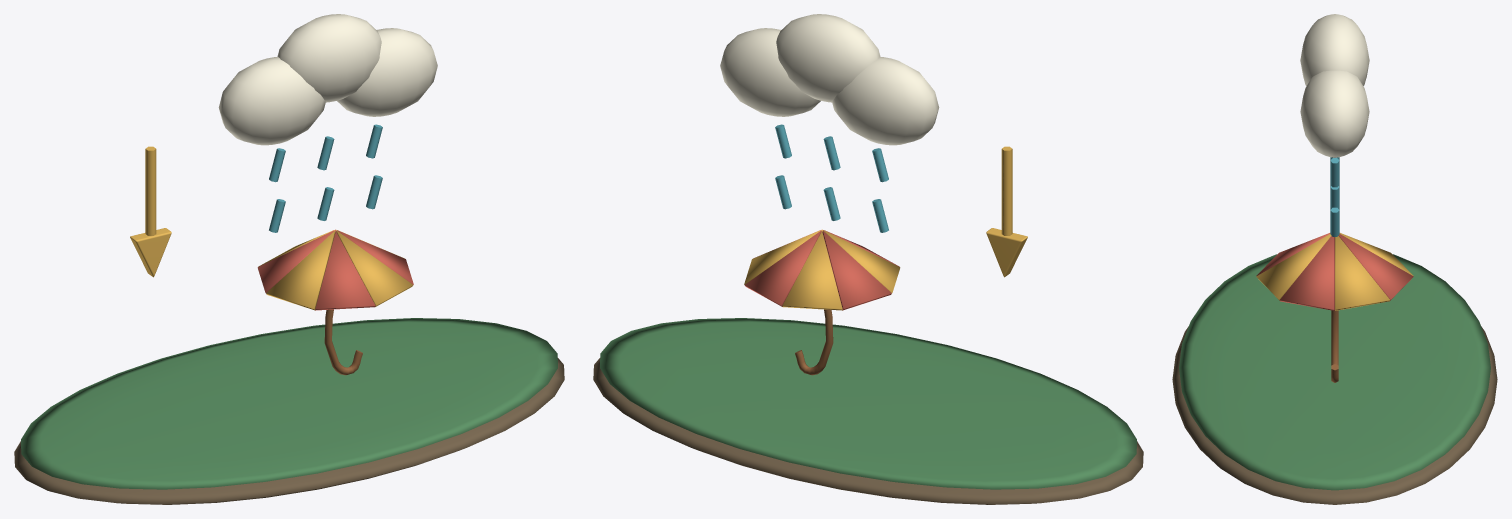
Rendered from falling-rain.glb.
3 renders of one model, left to right at view 1: azimuth 30°, elevation 25°; view 2: azimuth 150°, elevation 25°; view 3: azimuth 270°, elevation 25°, orthographic. The views are drawn at different scales.
Visible parts, largest first — view 1: falling-rain_surface_01, falling-rain_surface_03, falling-rain_surface_00, falling-rain_surface_02, falling-rain_surface_06, falling-rain_surface_04, falling-rain_surface_05; view 2: falling-rain_surface_01, falling-rain_surface_03, falling-rain_surface_00, falling-rain_surface_02, falling-rain_surface_06, falling-rain_surface_04, falling-rain_surface_05; view 3: falling-rain_surface_01, falling-rain_surface_03, falling-rain_surface_00, falling-rain_surface_02, falling-rain_surface_06, falling-rain_surface_04, falling-rain_surface_05.
Boxes of the visible parts, box(x1,y1,x2,y2) form: falling-rain_surface_01: box(21, 318, 557, 489); falling-rain_surface_03: box(218, 14, 437, 145); falling-rain_surface_00: box(14, 358, 564, 504); falling-rain_surface_02: box(130, 146, 413, 310); falling-rain_surface_06: box(257, 229, 413, 310); falling-rain_surface_04: box(269, 124, 382, 232); falling-rain_surface_05: box(324, 309, 362, 375); falling-rain_surface_01: box(600, 318, 1136, 489); falling-rain_surface_03: box(720, 14, 939, 145); falling-rain_surface_00: box(593, 358, 1143, 504); falling-rain_surface_02: box(744, 146, 1027, 310); falling-rain_surface_06: box(744, 230, 899, 310); falling-rain_surface_04: box(775, 124, 888, 232); falling-rain_surface_05: box(795, 309, 833, 375); falling-rain_surface_01: box(1179, 254, 1490, 490); falling-rain_surface_03: box(1300, 14, 1369, 157); falling-rain_surface_00: box(1172, 326, 1497, 504); falling-rain_surface_02: box(1256, 233, 1413, 310); falling-rain_surface_06: box(1256, 233, 1413, 310); falling-rain_surface_04: box(1330, 157, 1339, 236); falling-rain_surface_05: box(1331, 310, 1338, 382).
Size of the model in its own units: 4.56 by 3.34 by 2.5.
